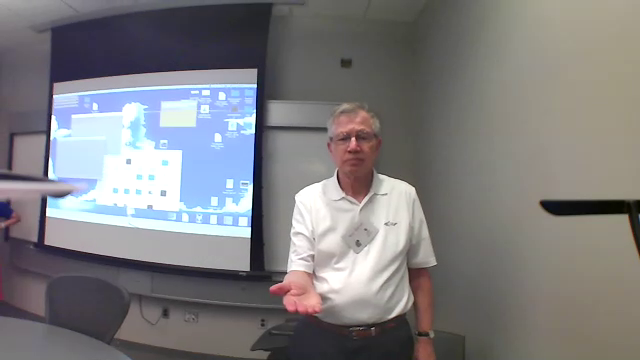land: (255, 264, 337, 321)
